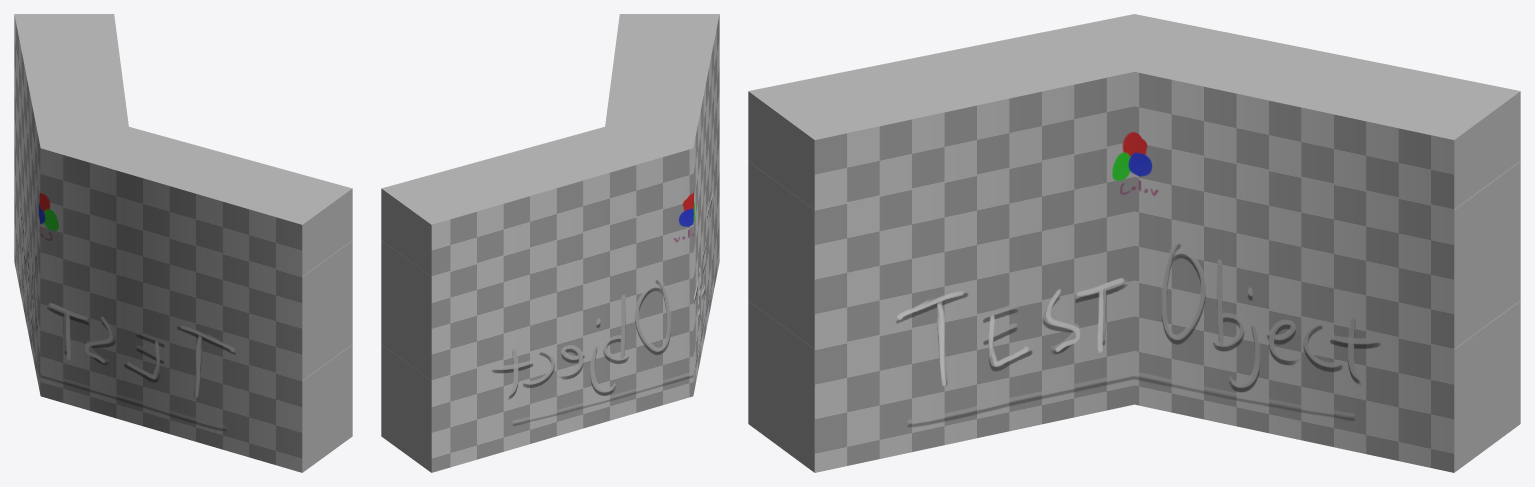
The model's file is testObj.fbx.
The picture shows the model from 3 angles, left to right: view 1: azimuth 30°, elevation 25°; view 2: azimuth 150°, elevation 25°; view 3: azimuth 270°, elevation 25°; orthographic projection. The views are drawn at different scales.
Visible parts, largest first — view 1: AA; view 2: AA; view 3: AA.
Part boxes in pixels (x1,y1,x2,y2): AA: [14, 14, 352, 472]; AA: [381, 14, 719, 472]; AA: [748, 14, 1520, 472].
Size of the model in its own units: 4.9 by 6.03 by 12.68.
1 material, 1 textured.
